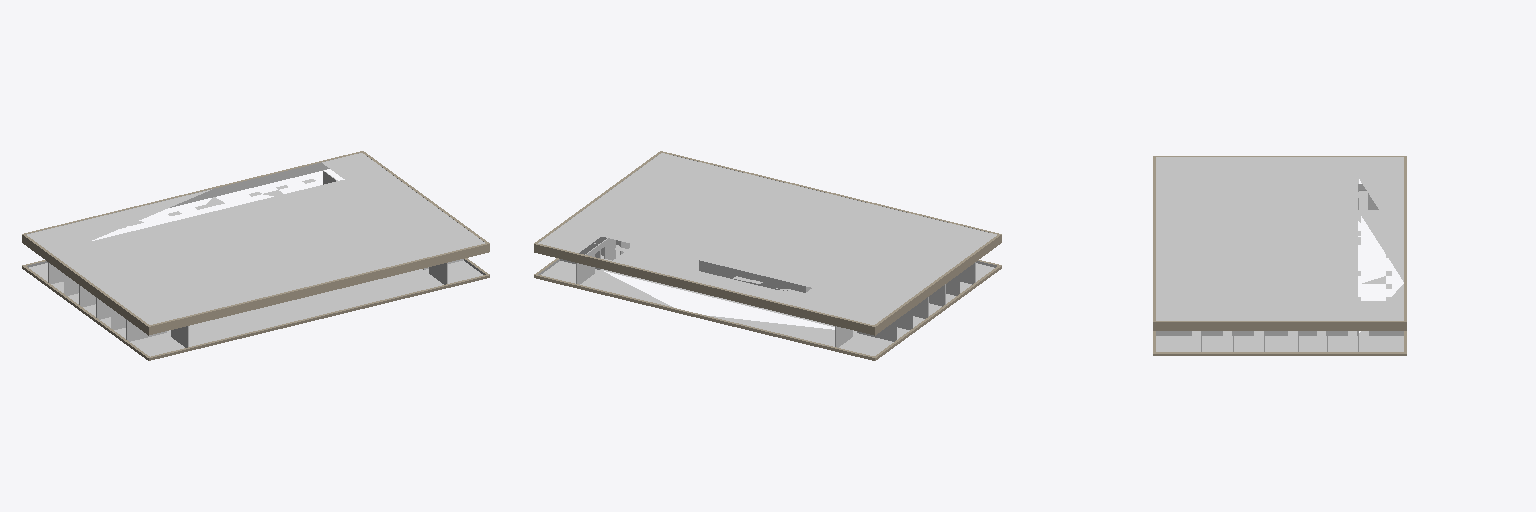
The model's file is Envelope_WWR40p_9ft.obj.
3 views of the same model, side by side, from view 1: azimuth 30°, elevation 25°; view 2: azimuth 150°, elevation 25°; view 3: azimuth 270°, elevation 25° (orthographic).
Parts seen in each view (by area): view 1: floor9ft; view 2: floor9ft; view 3: floor9ft.
Boxes of the visible parts, box(x1,y1,x2,y2) form: floor9ft: box(22, 151, 489, 360); floor9ft: box(534, 151, 1001, 360); floor9ft: box(1153, 156, 1406, 355).
Size of the model in its own units: 38.71 by 3.69 by 24.97.